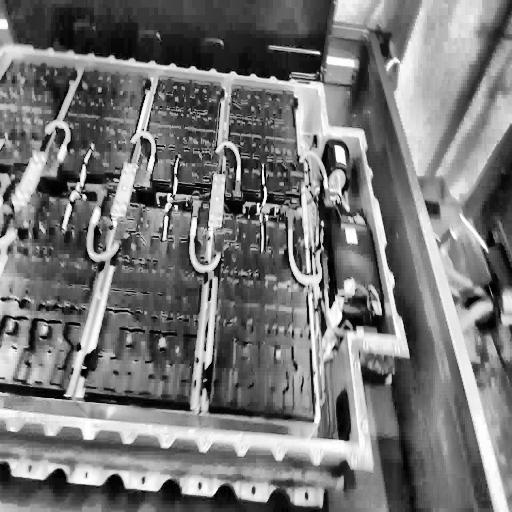high_volt_cable: (283, 203, 327, 295), (86, 181, 122, 271), (189, 198, 222, 274), (292, 143, 333, 204), (210, 138, 245, 201), (124, 123, 160, 183), (38, 119, 70, 171)
